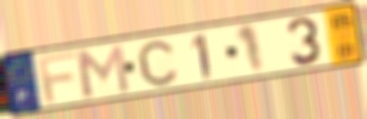1: (234, 21, 267, 76), (190, 32, 213, 81)
3: (285, 14, 324, 68)
C: (135, 39, 179, 88)
F: (35, 50, 79, 105)
M: (72, 42, 133, 100)
